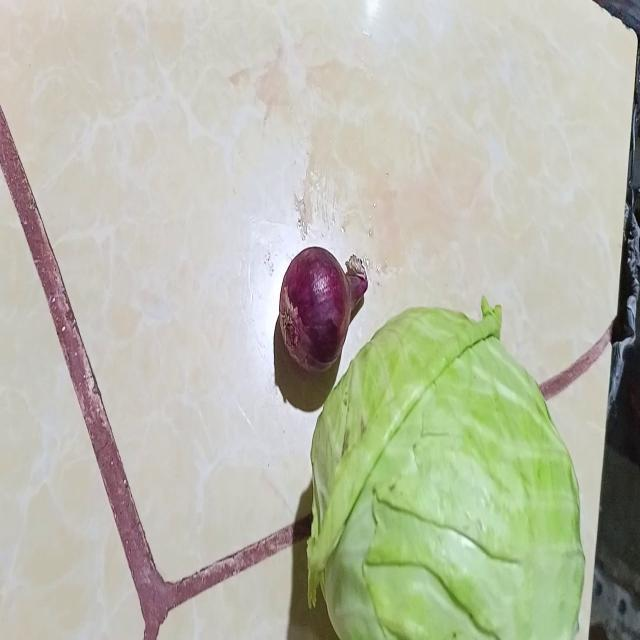cabbage: (307, 305, 588, 640)
onion: (279, 247, 368, 375)
